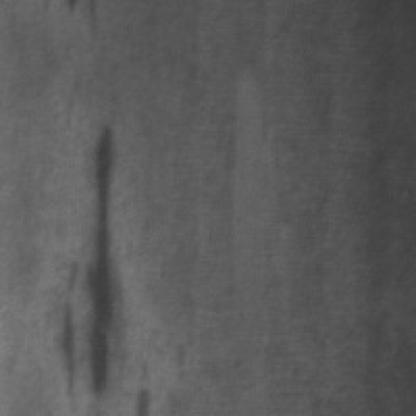inclusion: (50, 115, 129, 404)
